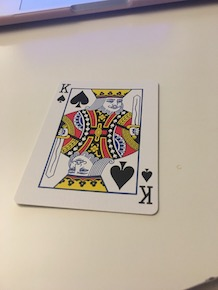KingOfSpades: (8, 77, 169, 217)
